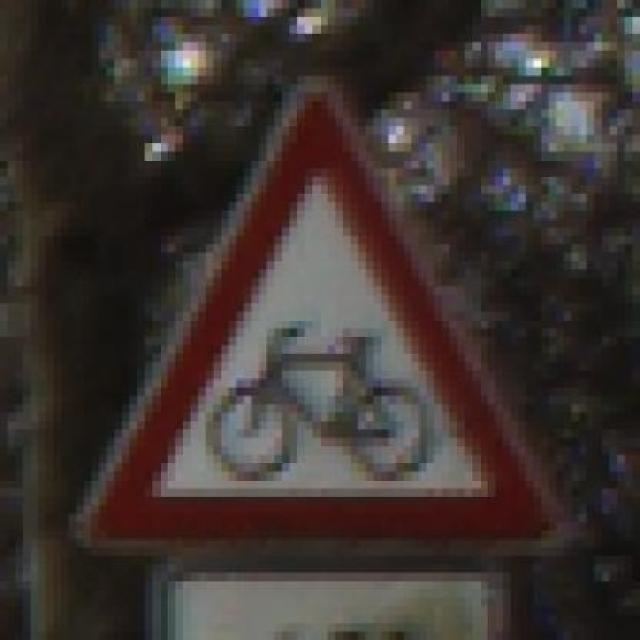CYCLE ROUTE AHEAD WARNING: (68, 84, 580, 581)
